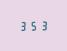five: (29, 20, 38, 30)
three: (18, 20, 27, 31), (39, 19, 48, 30)
